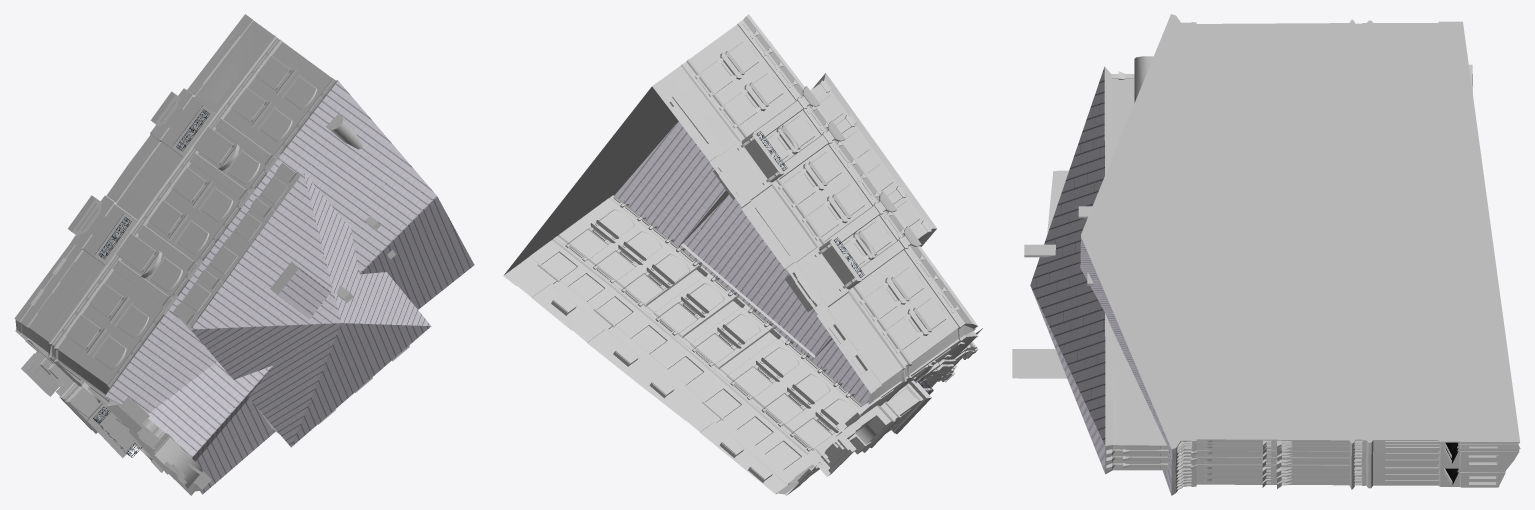
Rendered from Pikk_16.obj.
3 views of the same model, side by side, from view 1: azimuth 30°, elevation 25°; view 2: azimuth 150°, elevation 25°; view 3: azimuth 270°, elevation 25° (orthographic). The views are drawn at different scales.
Parts seen in each view (by area): view 1: Pikk_16; view 2: Pikk_16; view 3: Pikk_16.
Part boxes in pixels (bbox=[...]): Pikk_16: bbox=[14, 14, 474, 495]; Pikk_16: bbox=[503, 14, 982, 495]; Pikk_16: bbox=[1012, 14, 1520, 495].
Bounding box in the file's own units: 29.43 × 29.03 × 22.93.
